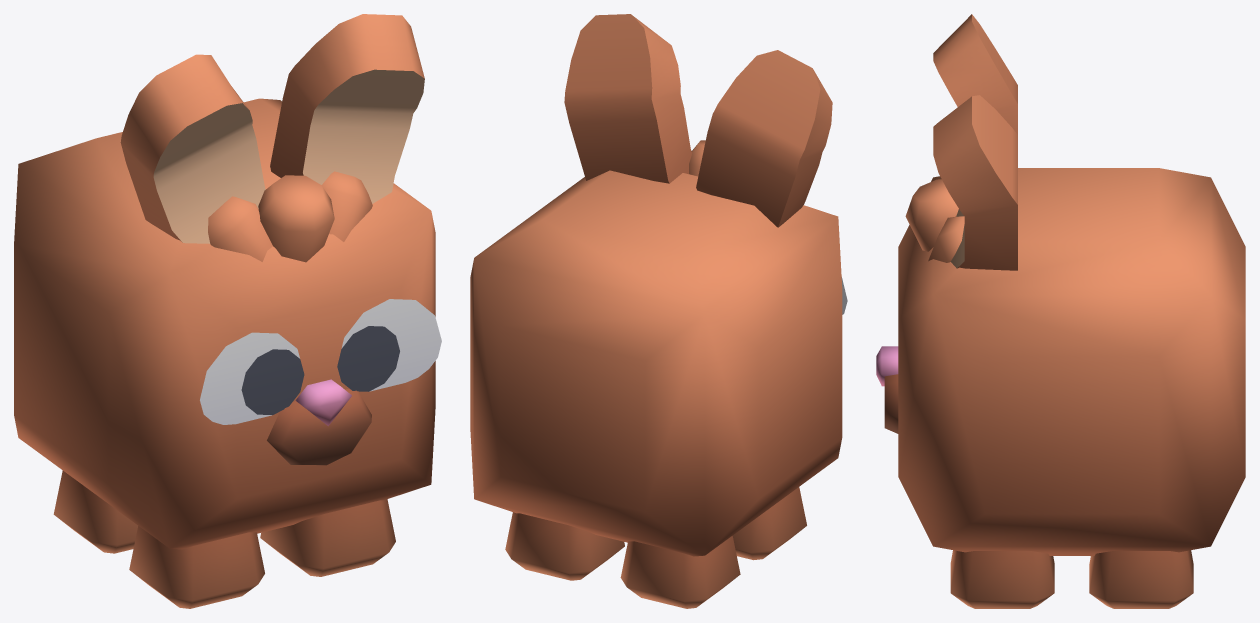
3 views of the same model, side by side, from view 1: azimuth 30°, elevation 25°; view 2: azimuth 150°, elevation 25°; view 3: azimuth 270°, elevation 25° (orthographic). The views are drawn at different scales.
Parts seen in each view (by area): view 1: body, leg-front-right, leg-front-left, leg-back-right; view 2: body, leg-back-right, leg-back-left, leg-front-right; view 3: body, leg-back-left, leg-front-left.
Part boxes in pixels (x1,y1,x2,y2): body: (14, 14, 441, 549); leg-front-right: (129, 526, 264, 608); leg-front-left: (260, 499, 395, 576); leg-back-right: (53, 470, 137, 553); body: (470, 14, 847, 556); leg-back-right: (620, 536, 740, 608); leg-back-left: (505, 512, 624, 580); leg-front-right: (732, 487, 806, 560); body: (876, 14, 1245, 555); leg-back-left: (1089, 550, 1193, 608); leg-front-left: (950, 550, 1054, 608).
Bounding box in the file's own units: 1.25 × 2.01 × 1.33.
Materials: 1 (1 with a texture image).
